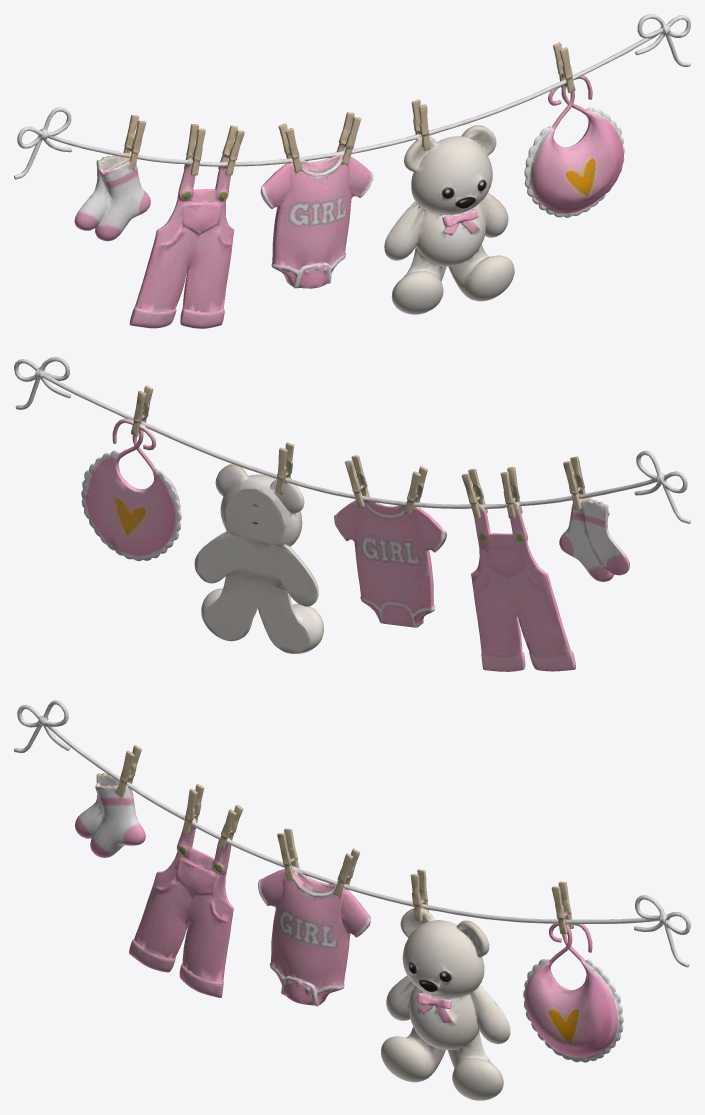
The picture shows the model from 3 angles, top to bottom: view 1: azimuth 30°, elevation 25°; view 2: azimuth 150°, elevation 25°; view 3: azimuth 330°, elevation 25°; orthographic projection.
Size of the model in its own units: 1.9 by 0.7878 by 0.1154.
1 material, 1 textured.
